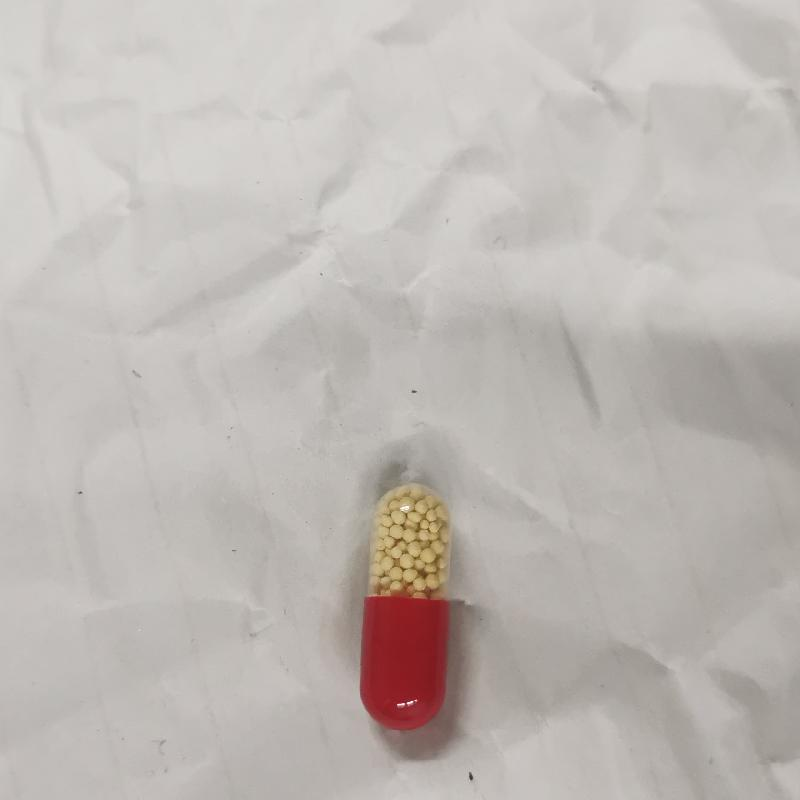pills: (347, 474, 462, 736)
